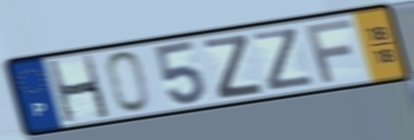0: (103, 48, 156, 116)
5: (151, 38, 210, 107)
F: (302, 17, 355, 85)
H: (45, 52, 113, 125)
Z: (250, 26, 318, 94), (201, 32, 266, 101)
